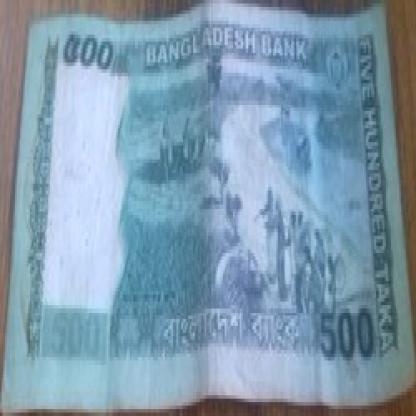500 taka: (50, 21, 135, 97)
currency: (8, 3, 410, 392)
